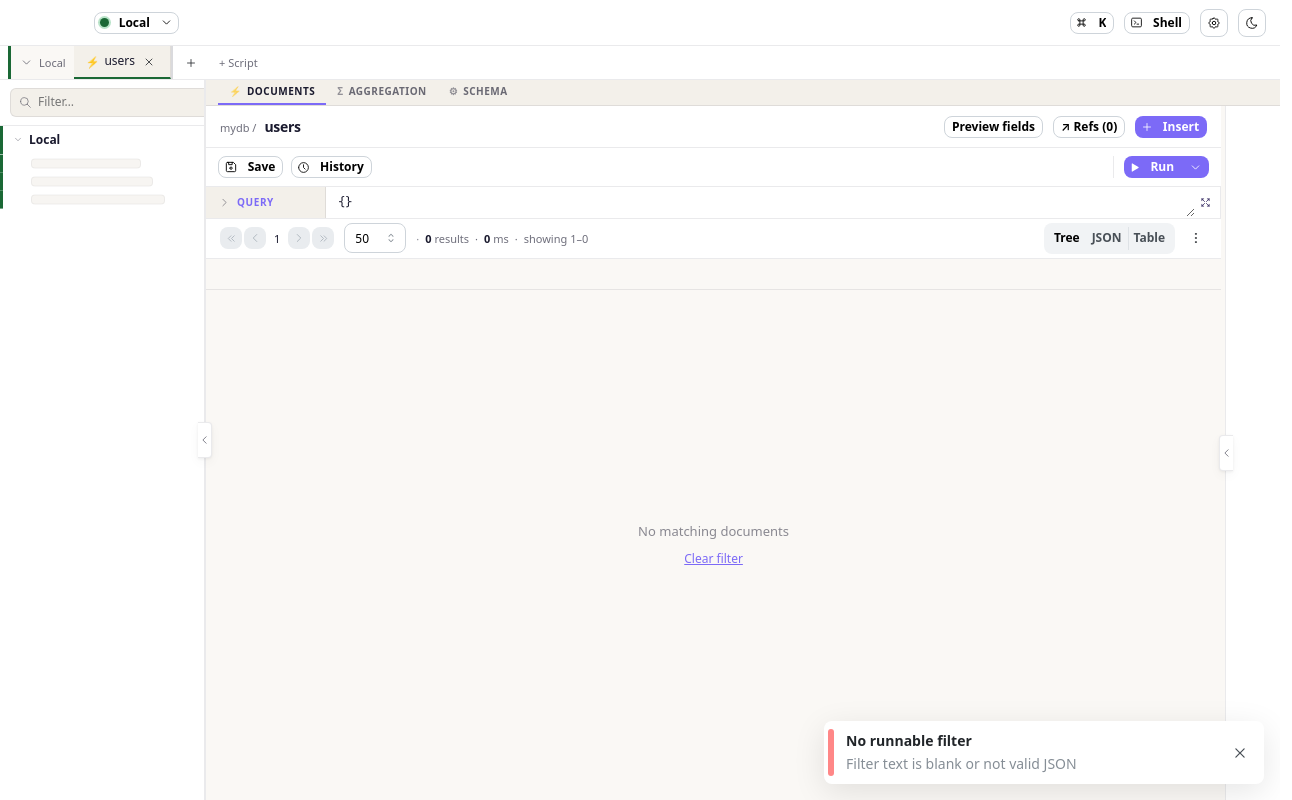
Test case: History works with the builder drawer collapsed › expands the drawer and shows the Recent tab
Step 1. Click the button "History" → (332, 167), box [291, 156, 372, 178]
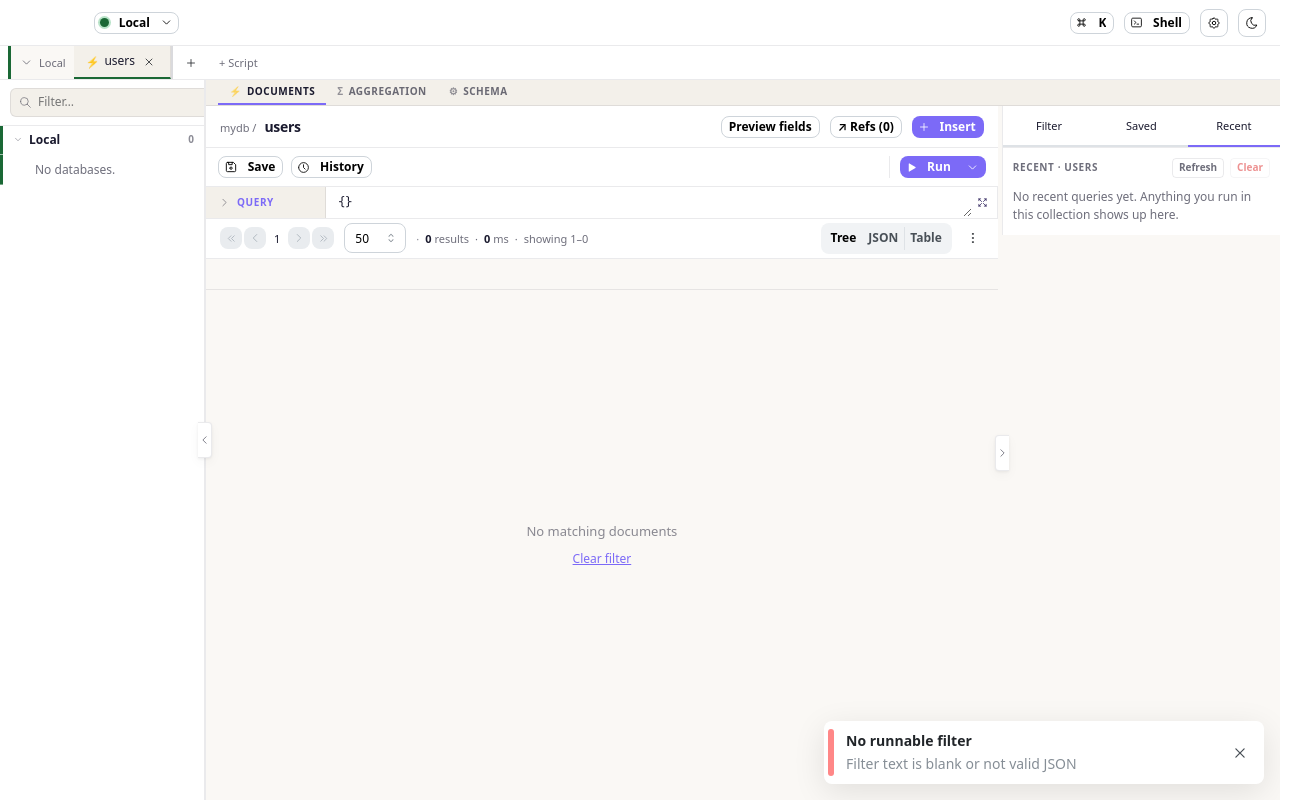
Check: the tab "Filter" is shown, box [1003, 106, 1095, 147]
